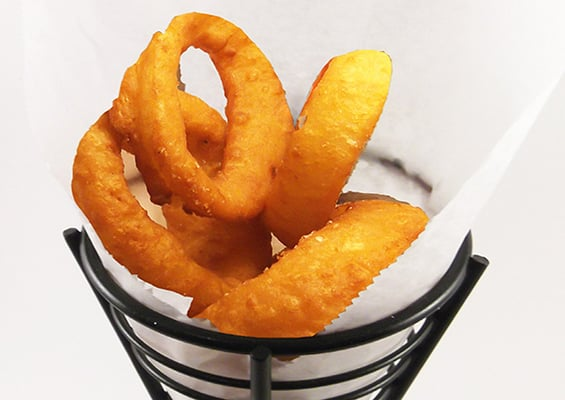sushi: (62, 6, 542, 396)
